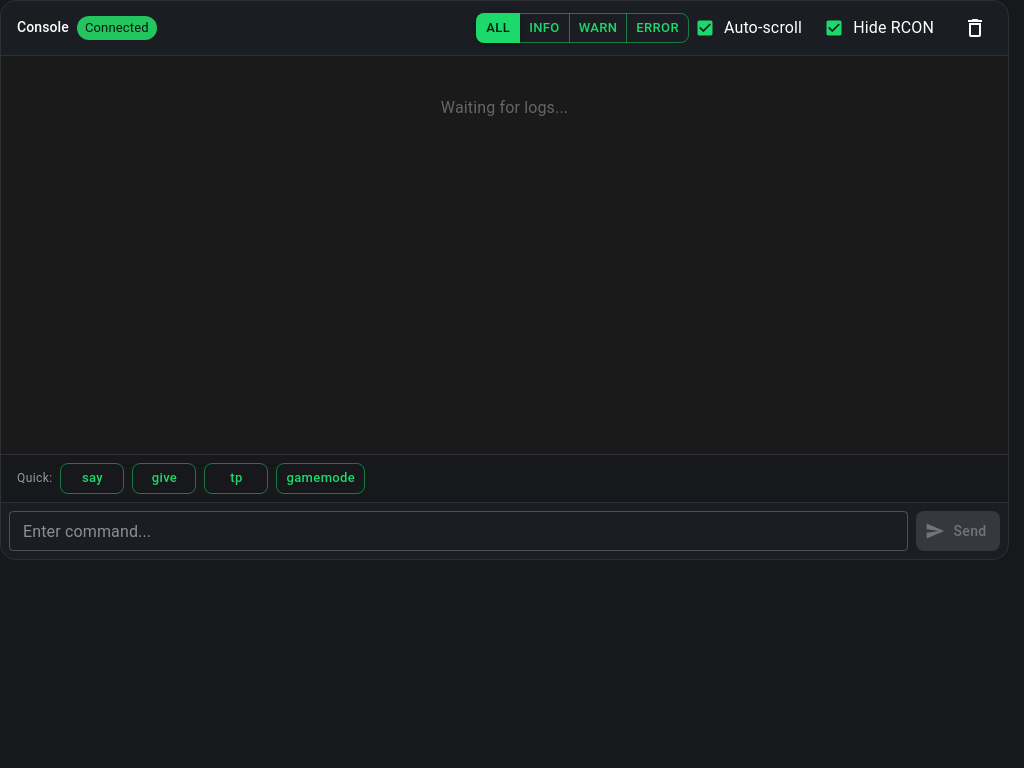
Test: ServerConsole › Quick Command Buttons › should populate input with quick command template
Step 1. Click the button "say" → (92, 479), box [60, 463, 124, 494]
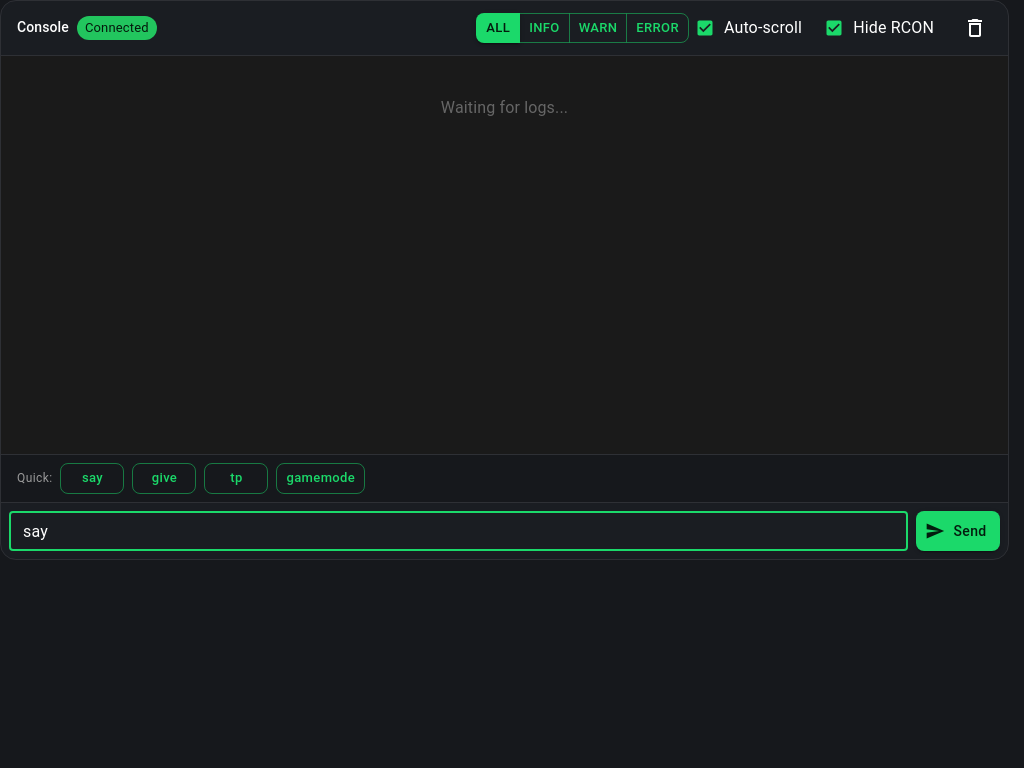
Now the field with placeholder "Enter command..." holds "say ", box [9, 511, 908, 551]
